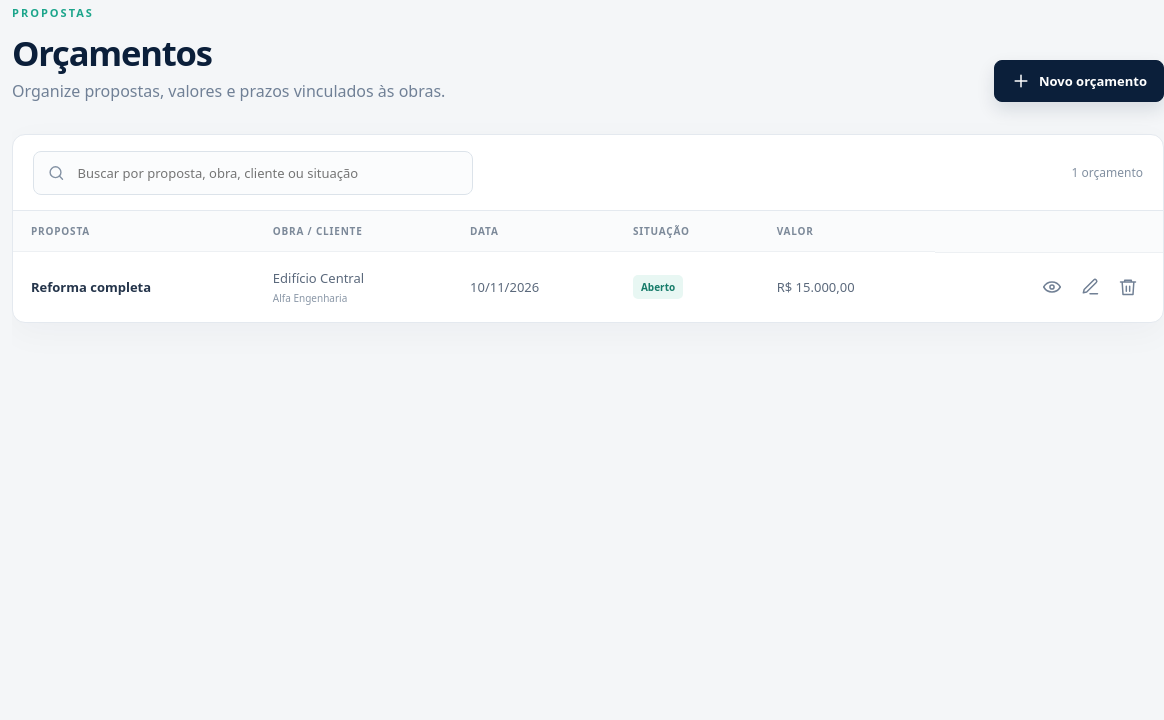
Scenario: módulo de orçamentos › pesquisa por proposta, obra, cliente e situação
Expected: the text "Reforma completa" is shown, [31,278,151,296]
Type "Reforma" into the field named "Pesquisar orçamentos".
click(267, 173); type("Reforma")  # box [76,163,459,183]
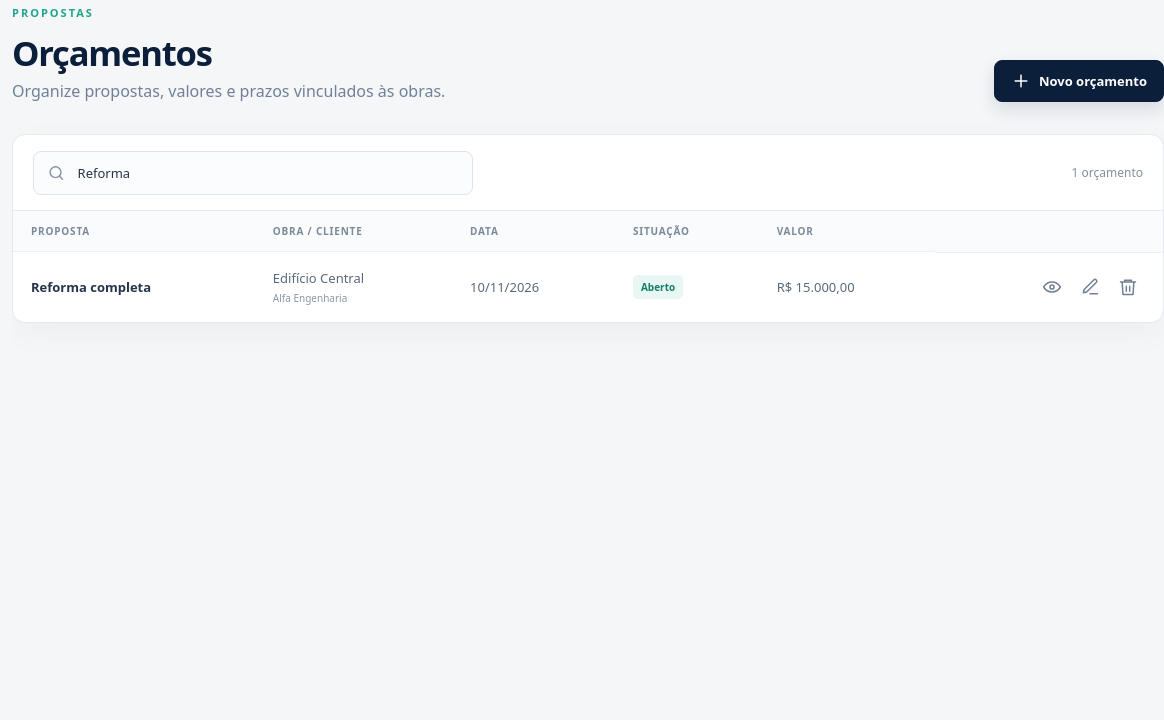
Expected: the text "Reforma completa" is shown, [31,278,151,296]
Replace the text in the field named "Pesquisar orçamentos" with "Edifício" at {"x": 267, "y": 173}, box [76,163,459,183]
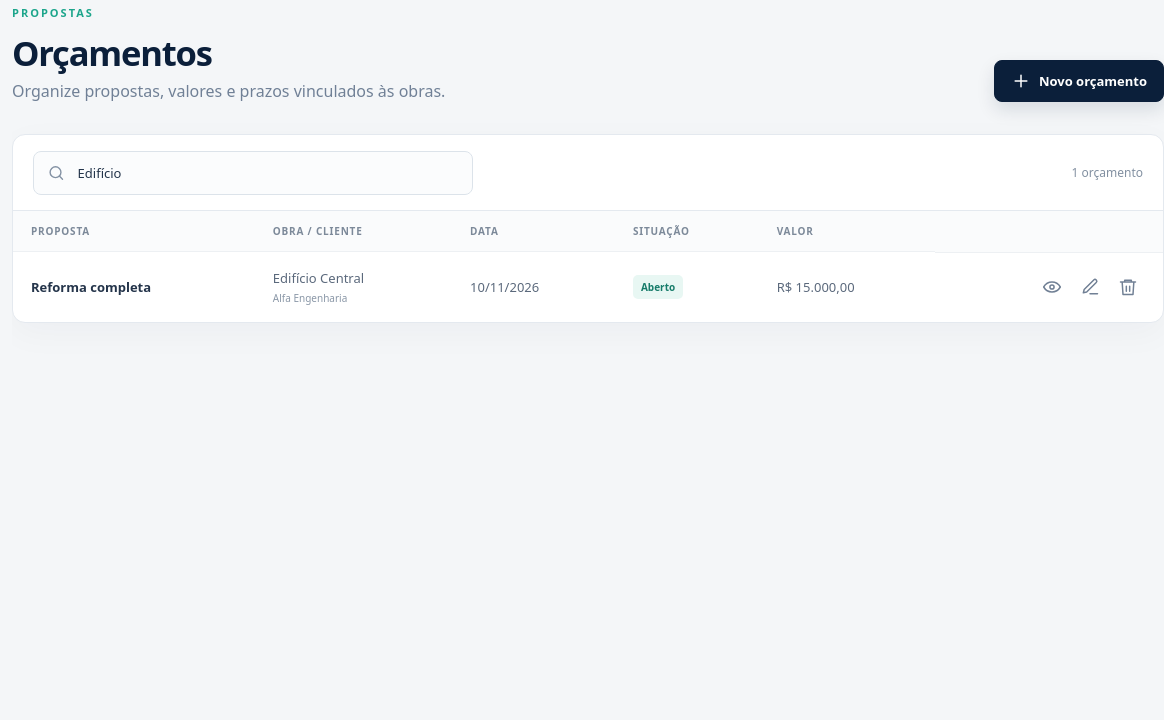
Expected: the text "Reforma completa" is shown, [31,278,151,296]
Replace the text in the field named "Pesquisar orçamentos" with "Alfa" at {"x": 267, "y": 173}, box [76,163,459,183]
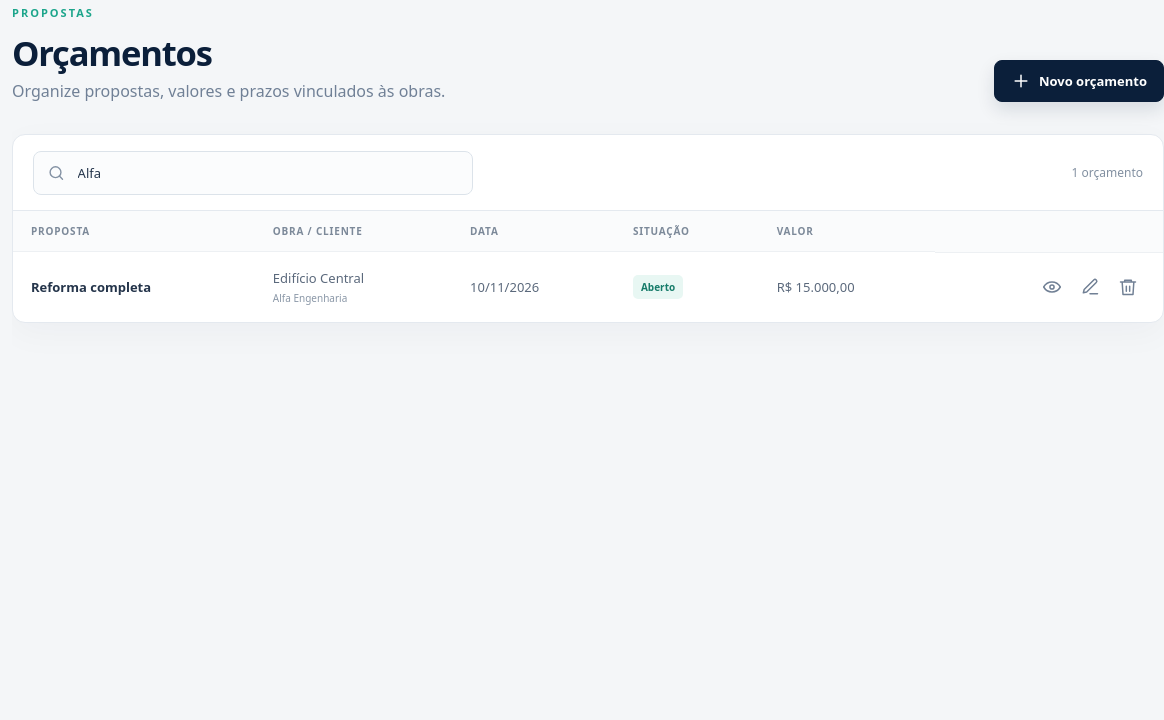
Expected: the text "Reforma completa" is shown, [31,278,151,296]
Replace the text in the field named "Pesquisar orçamentos" with "Aberto" at {"x": 267, "y": 173}, box [76,163,459,183]
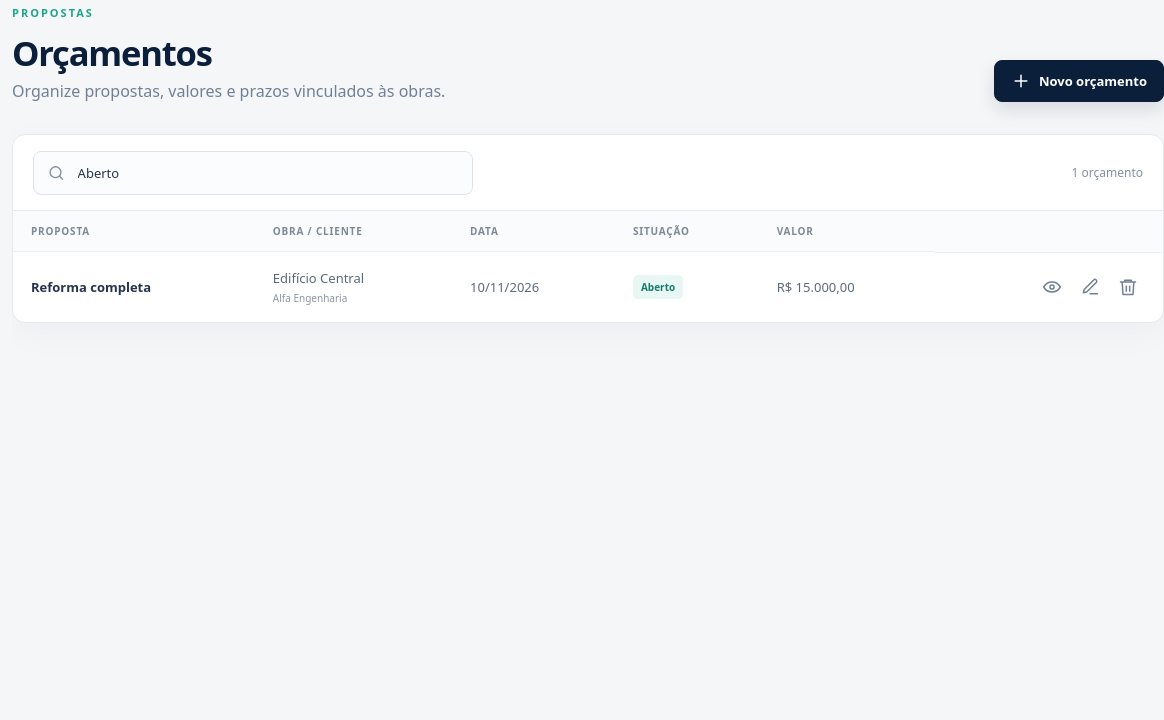
Expected: the text "Reforma completa" is shown, [31,278,151,296]
Replace the text in the field named "Pesquisar orçamentos" with "inexistente" at {"x": 267, "y": 173}, box [76,163,459,183]
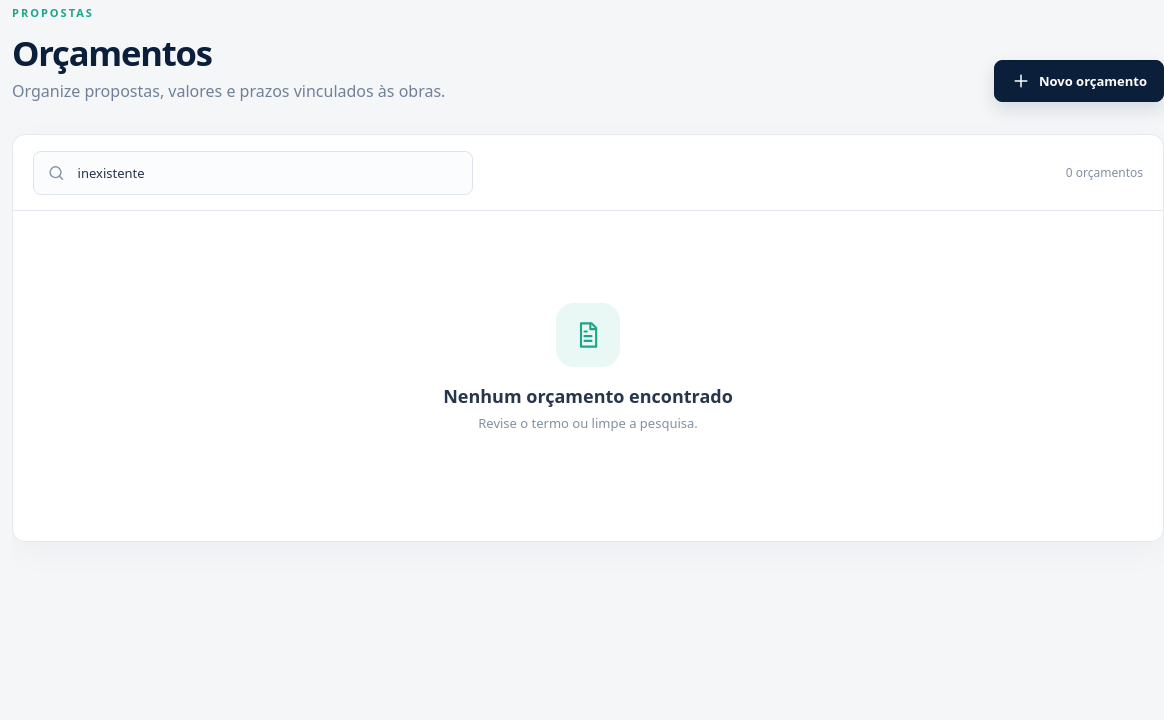
Expected: the heading "Nenhum orçamento encontrado" is shown, [443,384,733,408]
